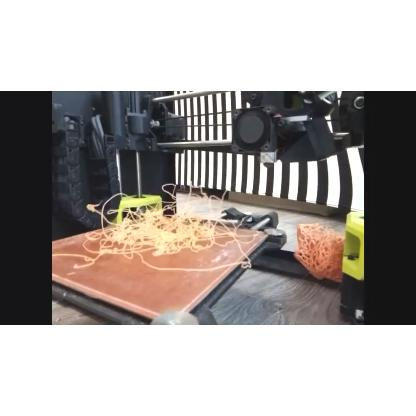fail: (86, 209, 236, 265)
